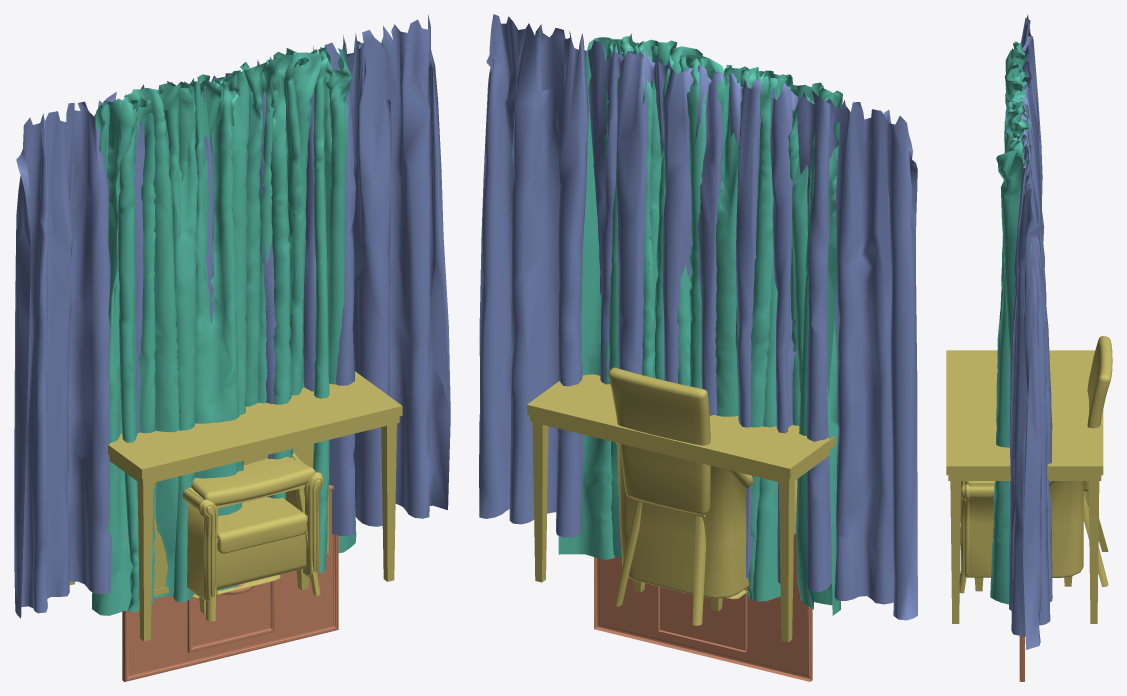
Rendered from Room_Props.fbx.
3 renders of one model, left to right at view 1: azimuth 30°, elevation 25°; view 2: azimuth 150°, elevation 25°; view 3: azimuth 270°, elevation 25°, orthographic. The views are drawn at different scales.
Visible parts, largest first — view 1: Curtain_2, Curtain_1_2, Curtain_1_1, SM_Table, SM_Armchair, SM_Painting_1, SM_Chair, SM_Painting_3, SM_TV; view 2: Curtain_2, Curtain_1_1, Curtain_1_2, SM_Table, SM_Chair, SM_Armchair, SM_Painting_1, SM_Painting_3; view 3: Curtain_2, SM_Table, Curtain_1_1, SM_Armchair, SM_Chair, Curtain_1_2, SM_Painting_1.
Boxes of the visible parts, box(x1,y1,x2,y2) form: Curtain_2: box(14, 15, 450, 618); Curtain_1_2: box(95, 47, 332, 612); Curtain_1_1: box(92, 47, 356, 615); SM_Table: box(69, 371, 402, 641); SM_Armchair: box(182, 452, 323, 613); SM_Painting_1: box(122, 485, 338, 681); SM_Chair: box(191, 456, 320, 621); SM_Painting_3: box(187, 580, 274, 652); SM_TV: box(153, 443, 328, 598); Curtain_2: box(479, 14, 917, 620); Curtain_1_1: box(558, 37, 840, 615); Curtain_1_2: box(609, 33, 842, 609); SM_Table: box(527, 374, 835, 642); SM_Chair: box(608, 367, 710, 625); SM_Armchair: box(615, 442, 753, 611); SM_Painting_1: box(594, 529, 812, 681); SM_Painting_3: box(658, 586, 747, 652); Curtain_2: box(1009, 14, 1052, 649); SM_Table: box(946, 350, 1103, 623); Curtain_1_1: box(990, 48, 1040, 604); SM_Armchair: box(960, 481, 1083, 591); SM_Chair: box(959, 336, 1112, 593); Curtain_1_2: box(996, 41, 1032, 399); SM_Painting_1: box(1019, 636, 1024, 681).
Size of the model in its own units: 232 by 305 by 84.74.
